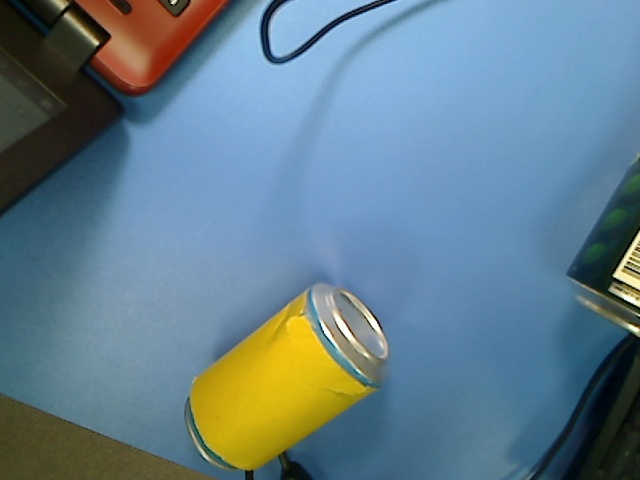can: (181, 278, 390, 475)
